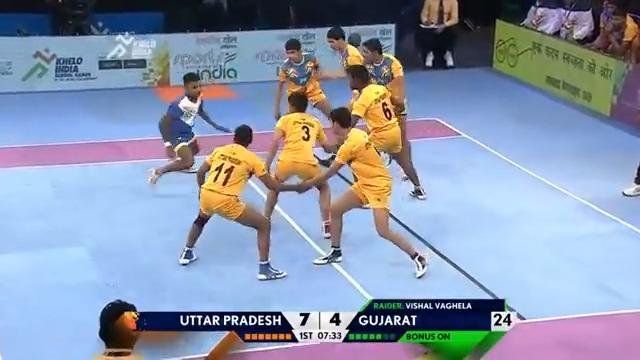Player: (295, 106, 429, 278), (177, 123, 287, 280), (345, 64, 427, 199), (262, 89, 334, 239), (272, 37, 334, 124), (325, 25, 365, 105)
Raider: (147, 71, 233, 184)
referee: (91, 298, 243, 359), (520, 0, 596, 44), (92, 298, 144, 359), (415, 0, 459, 69), (49, 0, 110, 36), (621, 163, 639, 197)
